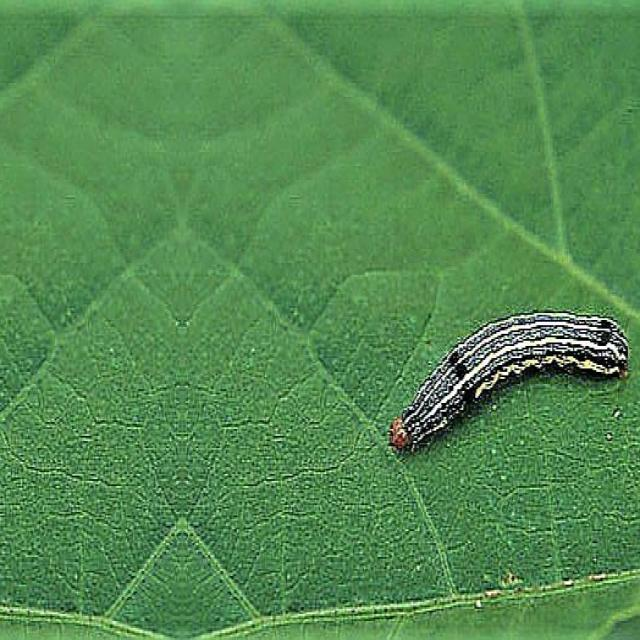Armyworm: (374, 288, 636, 477)
